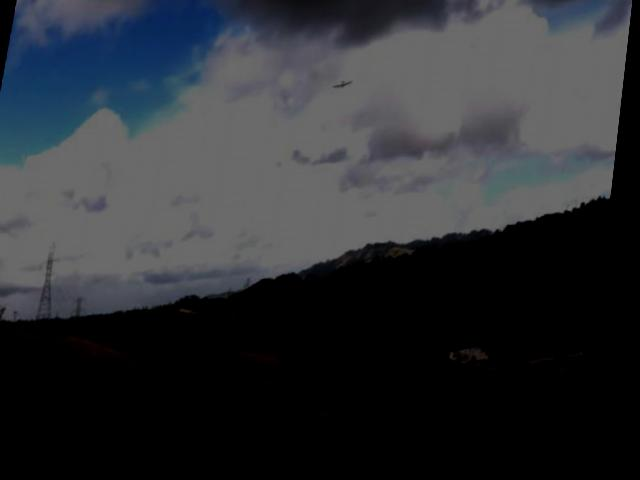iha: (332, 81, 356, 98)
